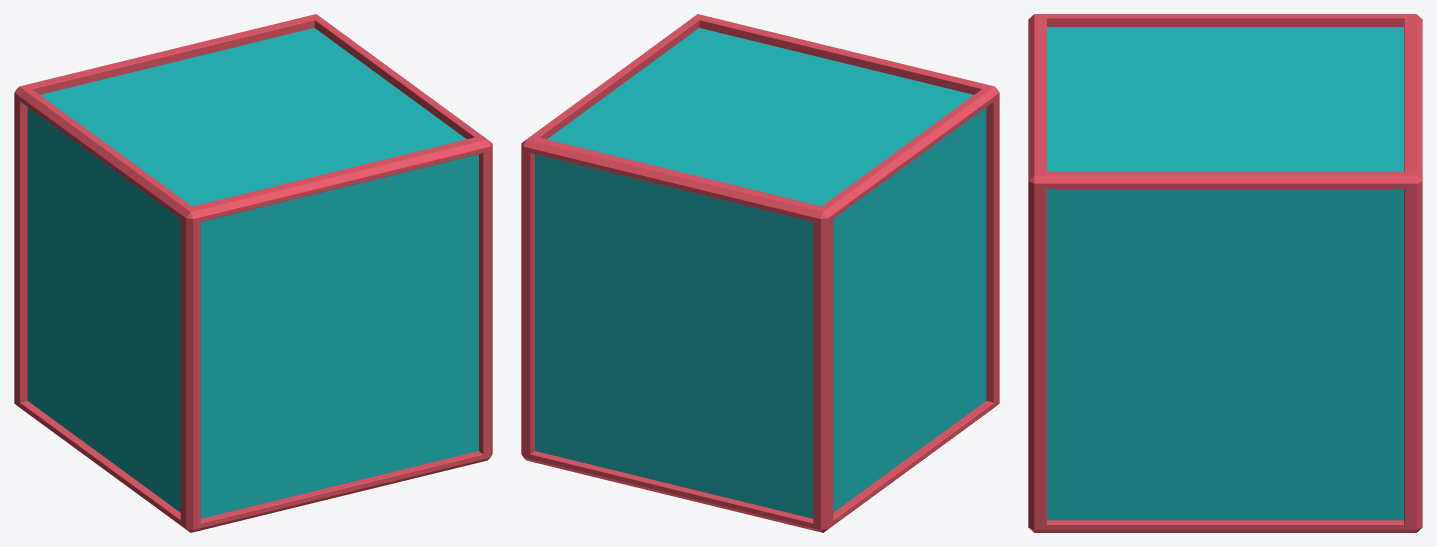
Rendered from powerUp.fbx.
3 renders of one model, left to right at view 1: azimuth 30°, elevation 25°; view 2: azimuth 150°, elevation 25°; view 3: azimuth 270°, elevation 25°, orthographic. The views are drawn at different scales.
Visible parts, largest first — view 1: pCube1; view 2: pCube1; view 3: pCube1.
Part boxes in pixels (bbox=[...]): pCube1: bbox=[14, 14, 492, 532]; pCube1: bbox=[521, 14, 999, 532]; pCube1: bbox=[1028, 14, 1422, 532].
Bounding box in the file's own units: 2 × 2 × 2.
